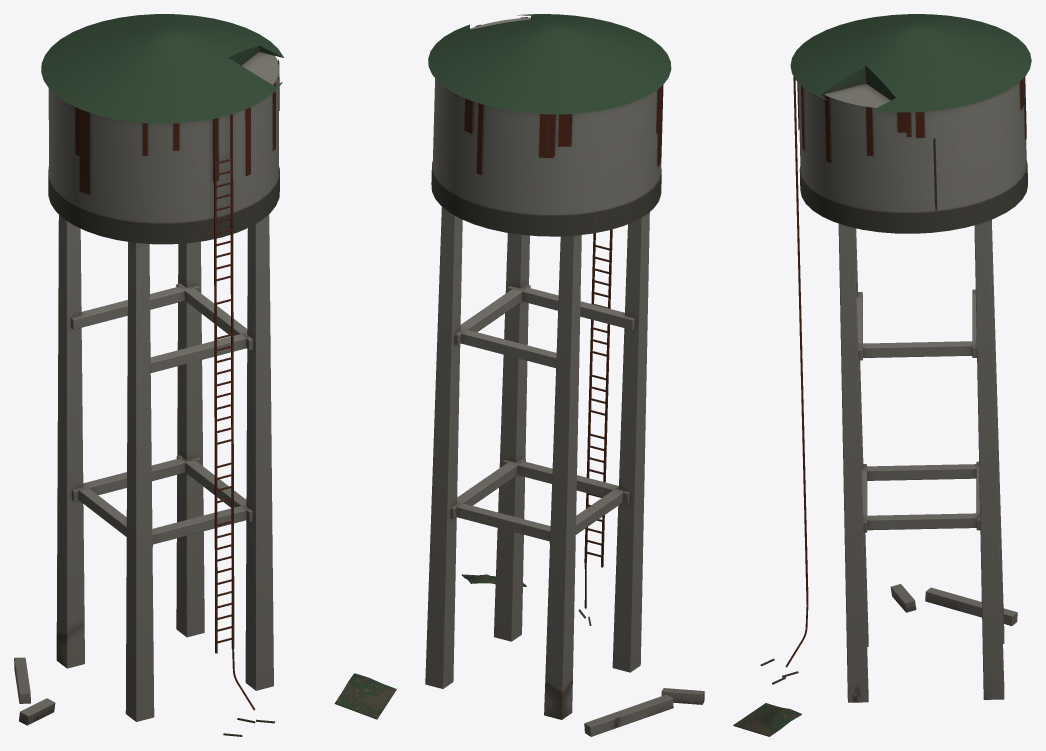
The model's file is torre.glb.
The picture shows the model from 3 angles, left to right: view 1: azimuth 30°, elevation 25°; view 2: azimuth 150°, elevation 25°; view 3: azimuth 270°, elevation 25°; orthographic projection.
Parts seen in each view (by area): view 1: g_torre; view 2: g_torre; view 3: g_torre.
Part boxes in pixels (x1=…): g_torre: x1=14, y1=14, x2=396, y2=736; g_torre: x1=425, y1=14, x2=704, y2=736; g_torre: x1=733, y1=14, x2=1031, y2=736.
Size of the model in its own units: 9.33 by 18.69 by 7.91.
1 material, 1 textured.
